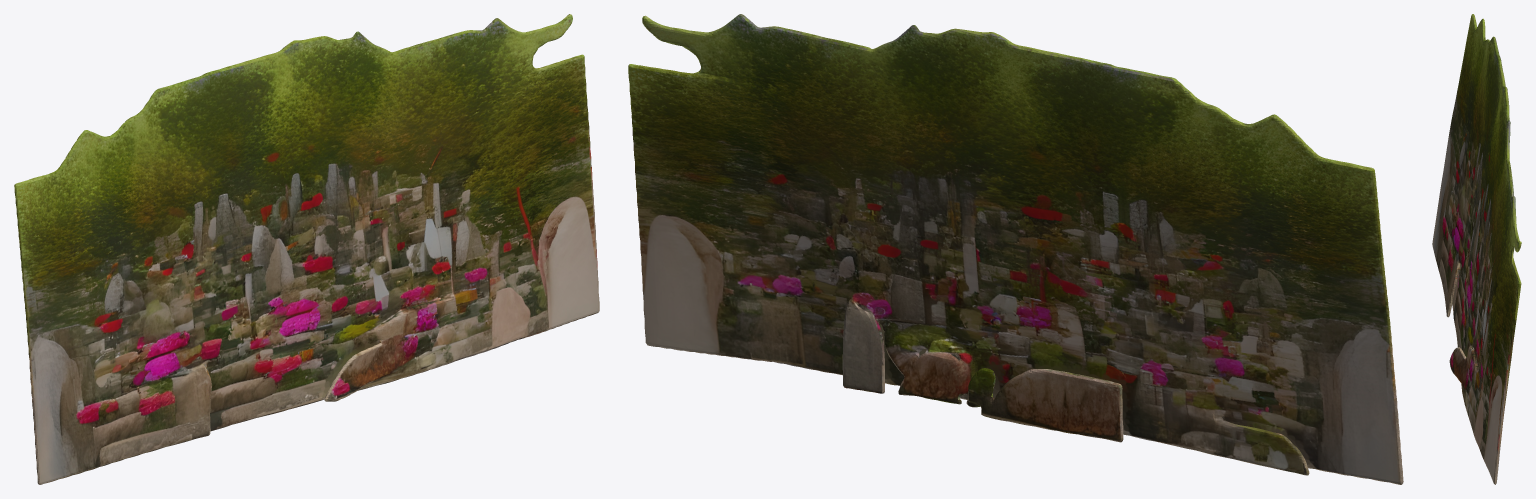
Rendered from ambition_rockery.glb.
3 views of the same model, side by side, from view 1: azimuth 30°, elevation 25°; view 2: azimuth 150°, elevation 25°; view 3: azimuth 270°, elevation 25° (orthographic). The views are drawn at different scales.
Visible parts, largest first — view 1: textured_mesh.obj; view 2: textured_mesh.obj; view 3: textured_mesh.obj.
Boxes of the visible parts, bbox=[...] form: textured_mesh.obj: bbox=[14, 14, 599, 484]; textured_mesh.obj: bbox=[628, 14, 1403, 484]; textured_mesh.obj: bbox=[1432, 14, 1521, 484].
Bounding box in the file's own units: 1.96 × 1.07 × 0.3079.
Materials: 1 (1 with a texture image).
